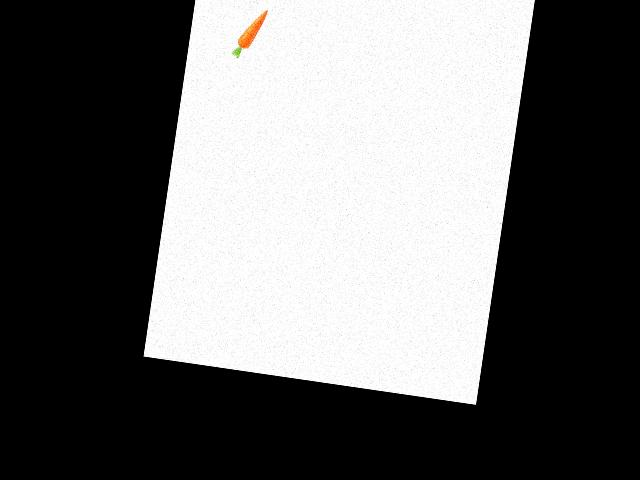carrot: (236, 5, 271, 57)
